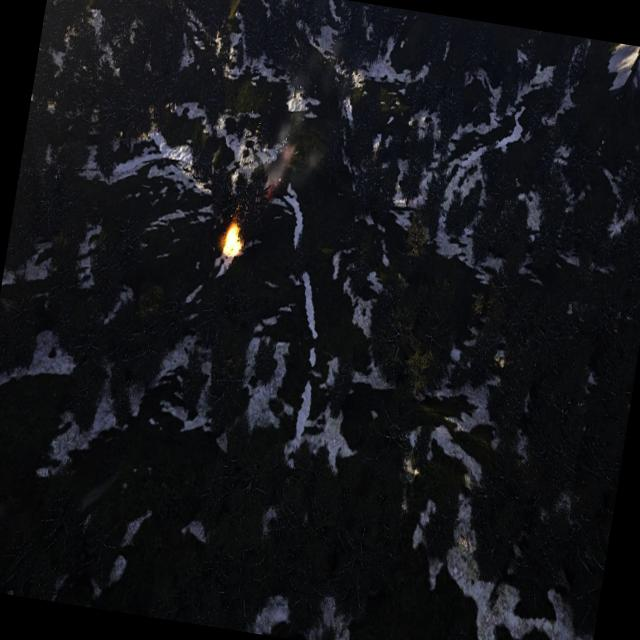fire: (221, 224, 245, 261)
smoke: (262, 116, 330, 202)
